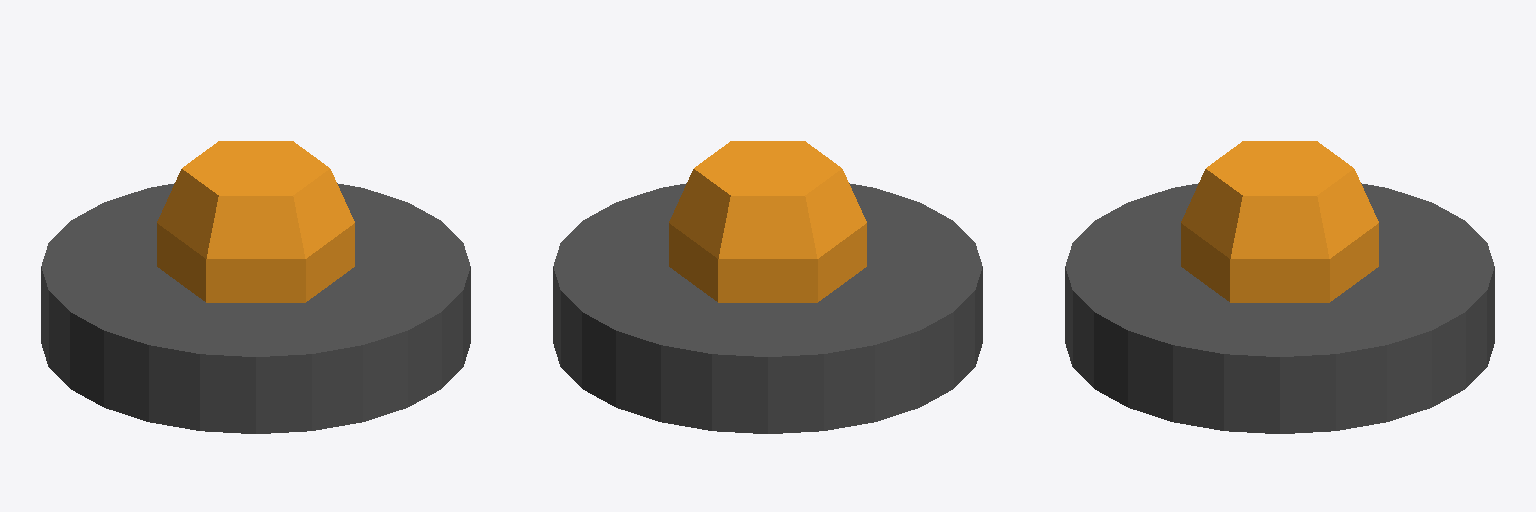
The model's file is gems_topaz_2.obj.
3 views of the same model, side by side, from view 1: azimuth 30°, elevation 25°; view 2: azimuth 150°, elevation 25°; view 3: azimuth 270°, elevation 25° (orthographic).
Parts seen in each view (by area): view 1: mergedBlocks; view 2: mergedBlocks; view 3: mergedBlocks.
Part boxes in pixels (bbox=[...]): mergedBlocks: bbox=[41, 141, 470, 433]; mergedBlocks: bbox=[553, 141, 982, 433]; mergedBlocks: bbox=[1065, 141, 1494, 433].
Bounding box in the file's own units: 1 × 0.45 × 1.